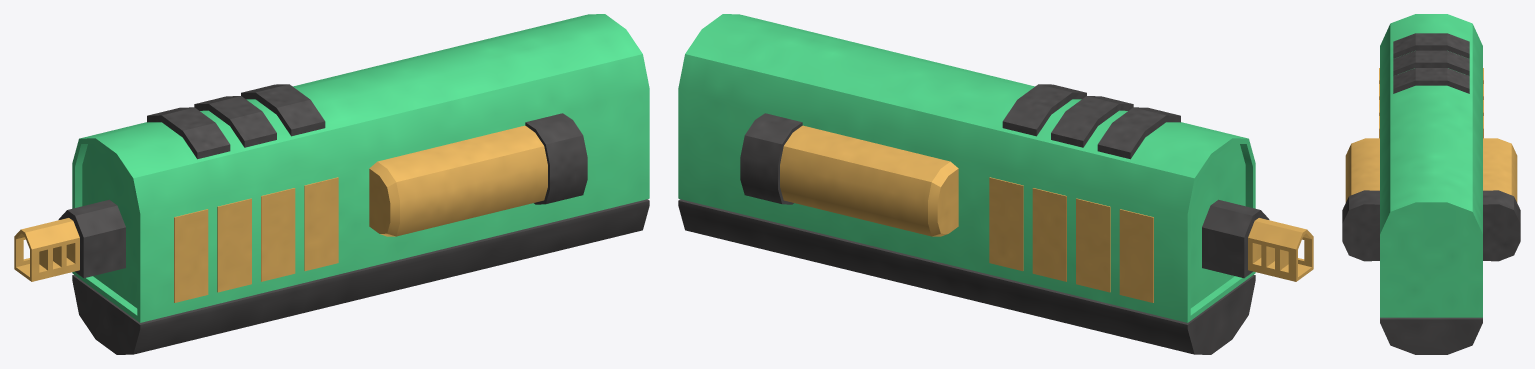
File: riffle.fbx
3 renders of one model, left to right at view 1: azimuth 30°, elevation 25°; view 2: azimuth 150°, elevation 25°; view 3: azimuth 270°, elevation 25°, orthographic. The views are drawn at different scales.
Parts seen in each view (by area): view 1: rifle; view 2: rifle; view 3: rifle.
Boxes of the visible parts, x1,y1,x2,y2 form: rifle: (14, 14, 649, 354); rifle: (678, 14, 1313, 354); rifle: (1342, 14, 1520, 354).
Bounding box in the file's own units: 61.68 × 20.68 × 21.19.
